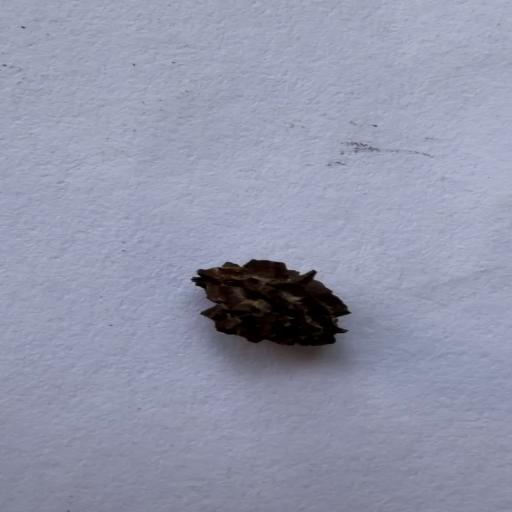papaya_seed: (172, 235, 367, 358)
